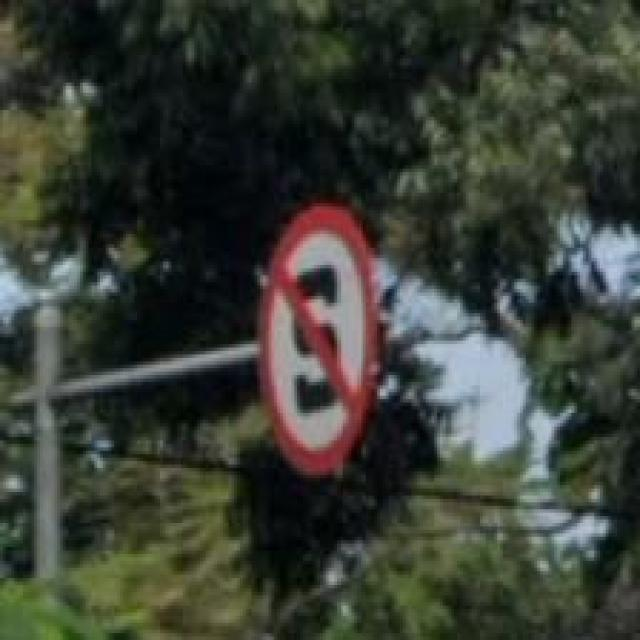traffic sign: (257, 200, 380, 478)
